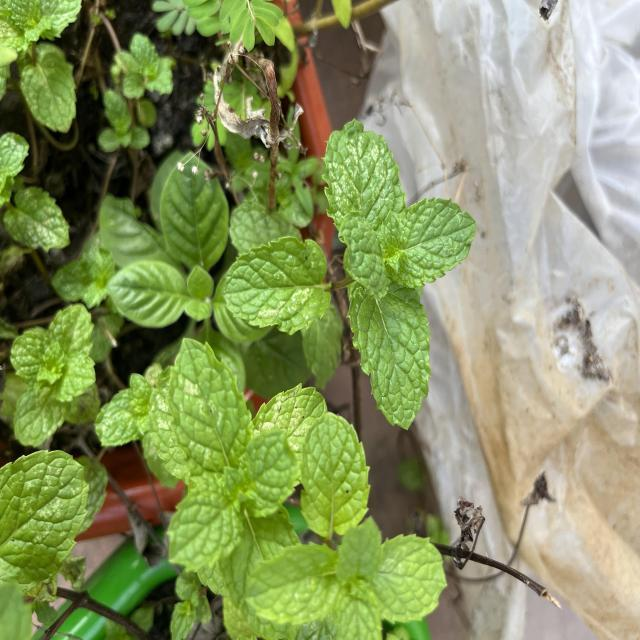Mentha spicata: (347, 278, 432, 432), (166, 336, 256, 480), (222, 236, 332, 336), (320, 118, 408, 235), (298, 411, 372, 538), (396, 196, 478, 289)
